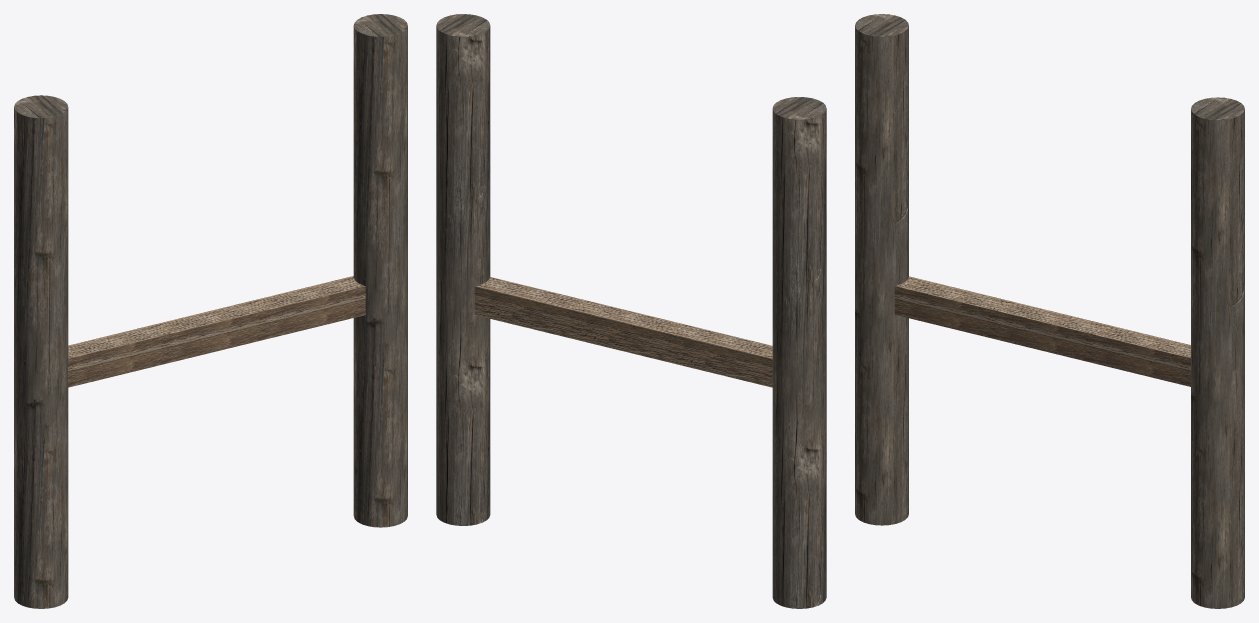
The picture shows the model from 3 angles, left to right: view 1: azimuth 30°, elevation 25°; view 2: azimuth 150°, elevation 25°; view 3: azimuth 330°, elevation 25°; orthographic projection.
Visible parts, largest first — view 1: H; view 2: H; view 3: H.
Boxes of the visible parts, bbox=[...] form: H: bbox=[14, 14, 407, 608]; H: bbox=[436, 14, 826, 608]; H: bbox=[855, 14, 1244, 608].
Bounding box in the file's own units: 493 × 600 × 62.64.
Materials: 2 (2 with a texture image).
